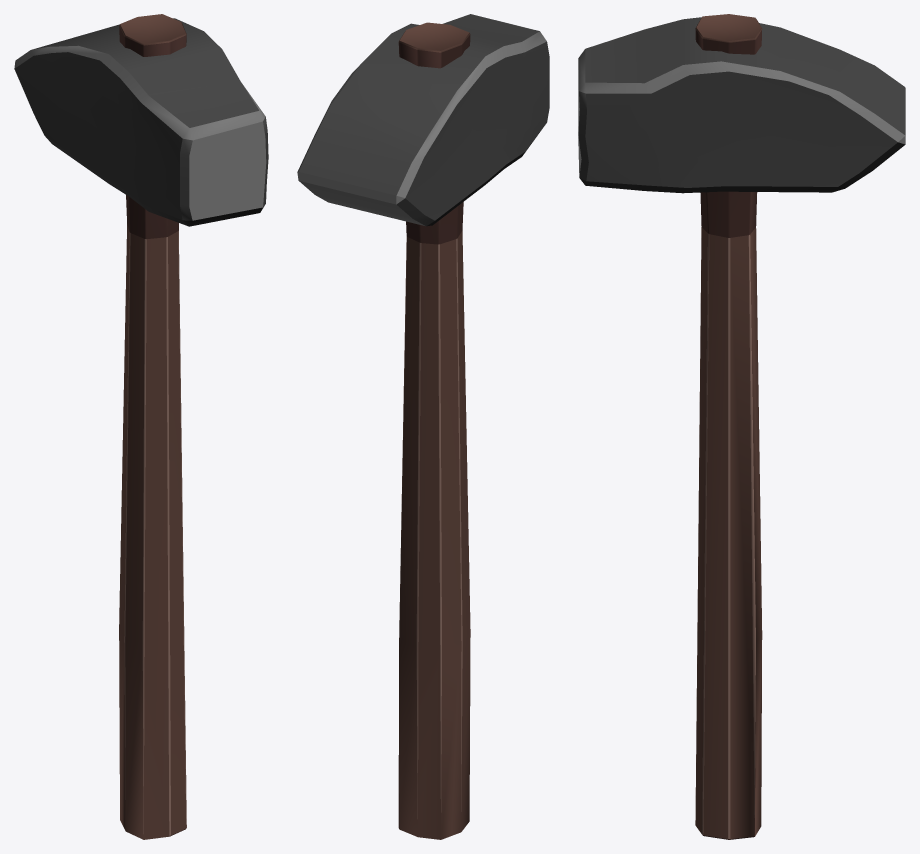
File: UD_SAF_Small_Hammer.fbx
The picture shows the model from 3 angles, left to right: view 1: azimuth 30°, elevation 25°; view 2: azimuth 150°, elevation 25°; view 3: azimuth 270°, elevation 25°; orthographic projection.
Parts seen in each view (by area): view 1: Blacksmith_Hammer; view 2: Blacksmith_Hammer; view 3: Blacksmith_Hammer.
Boxes of the visible parts, x1=… form: Blacksmith_Hammer: x1=14, y1=14, x2=268, y2=839; Blacksmith_Hammer: x1=297, y1=14, x2=549, y2=839; Blacksmith_Hammer: x1=578, y1=14, x2=905, y2=839.
Size of the model in its own units: 5 by 35 by 13.
